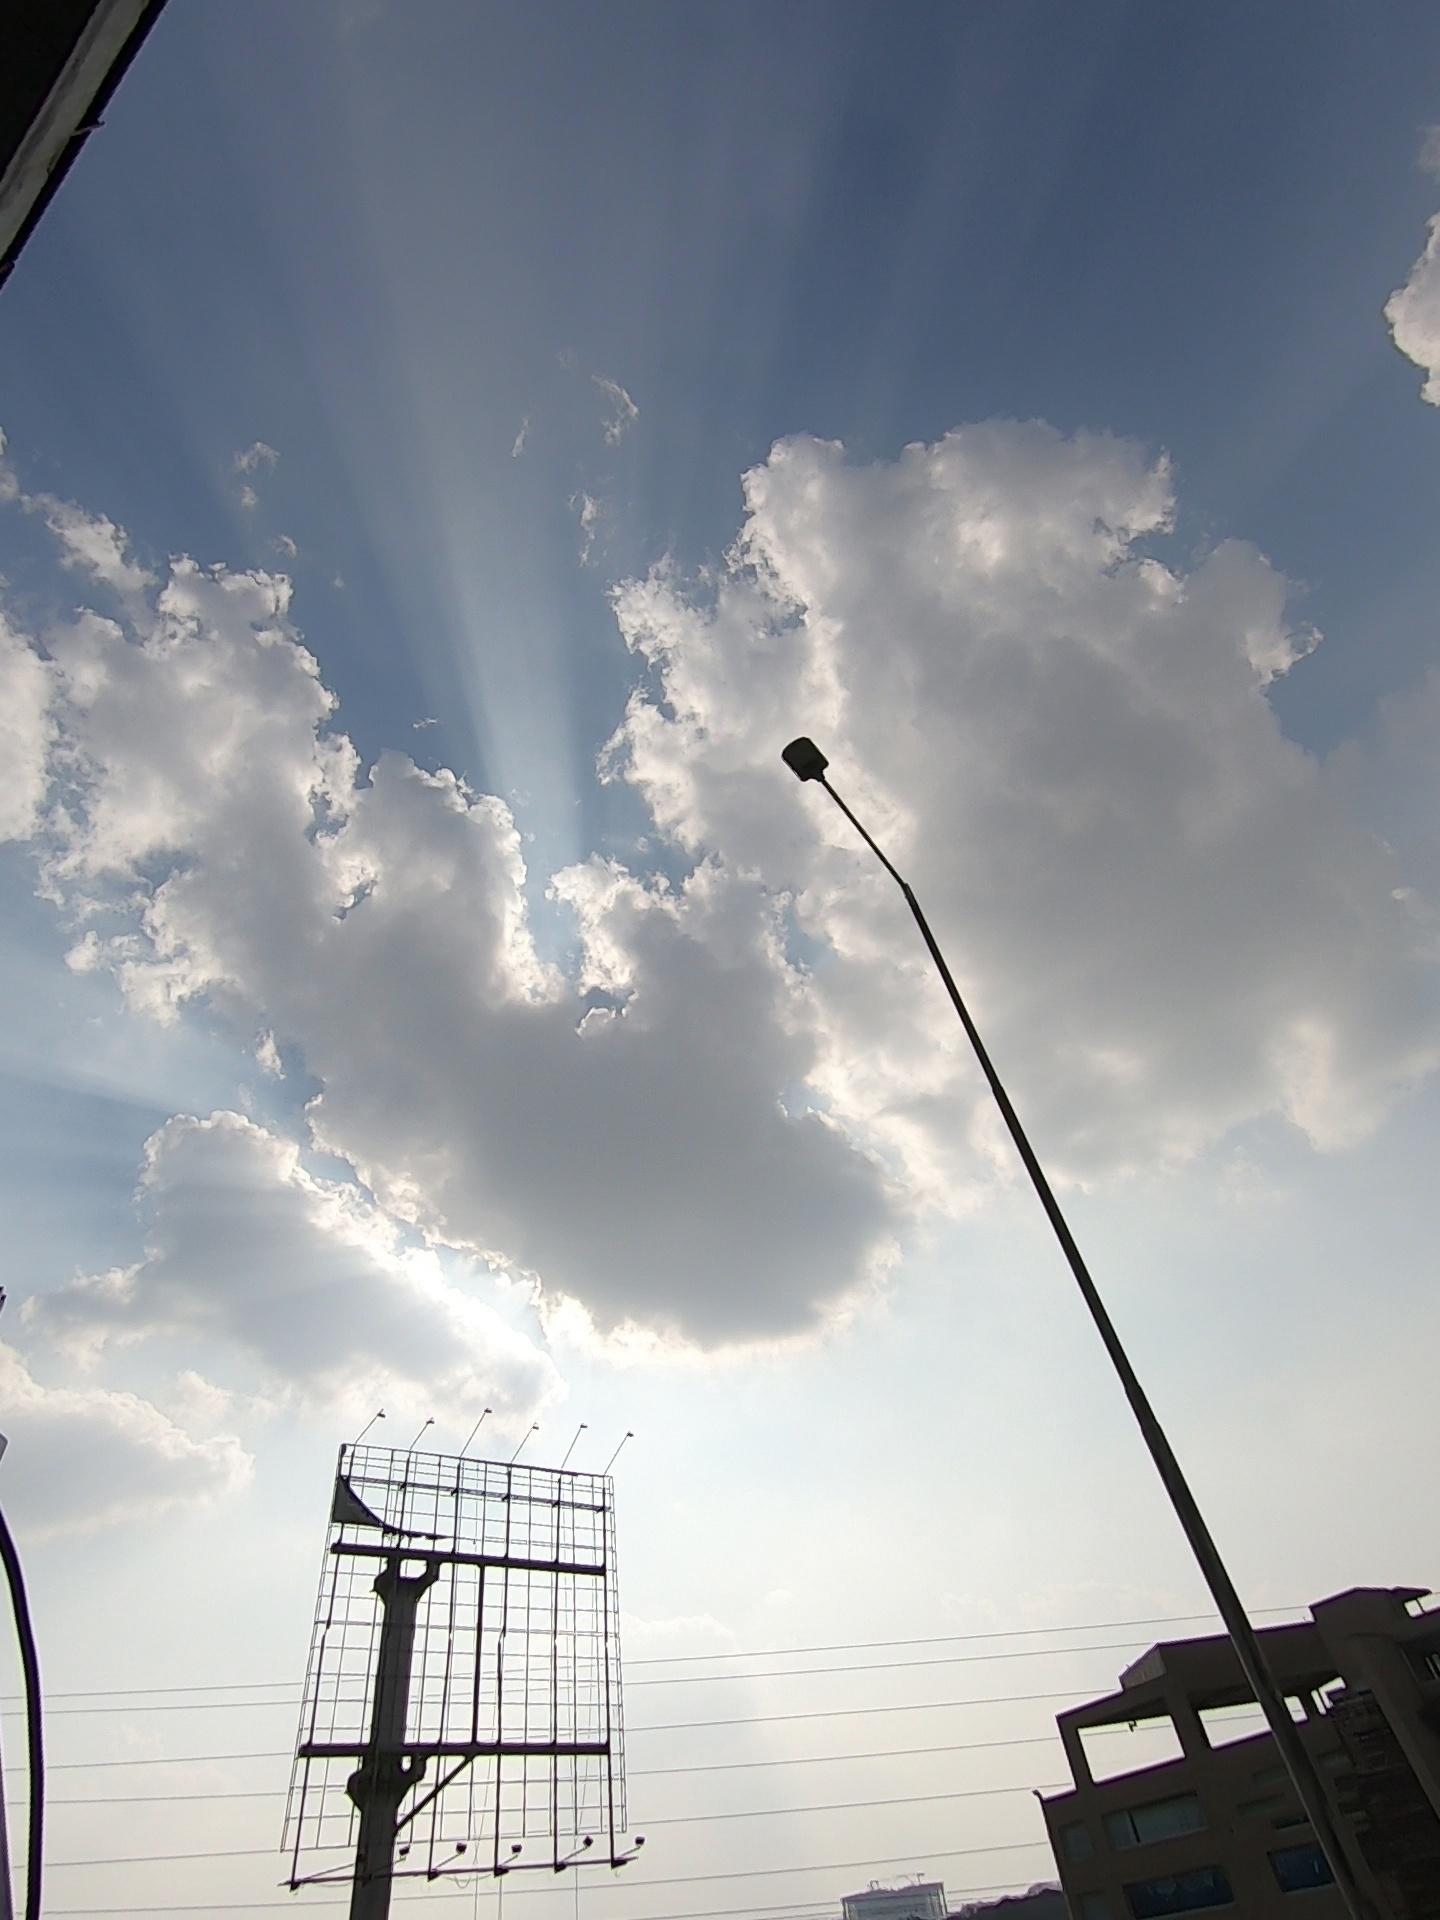off: (690, 661, 979, 907)
